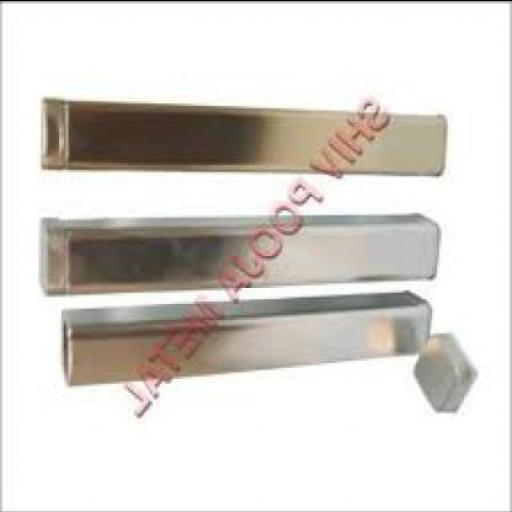metal: (62, 287, 428, 383), (34, 210, 435, 293), (38, 96, 444, 175), (412, 332, 473, 410)
